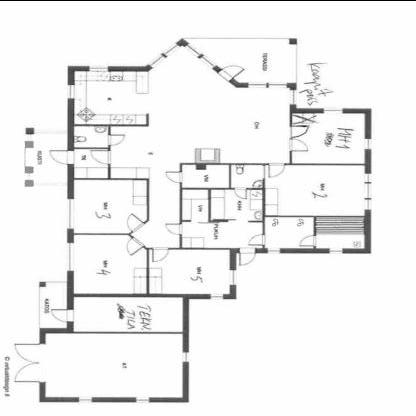door: (11, 341, 47, 388), (287, 121, 310, 155), (214, 61, 246, 81), (124, 233, 149, 257), (231, 245, 257, 268), (146, 245, 172, 265), (122, 212, 148, 232), (265, 158, 289, 178), (87, 147, 113, 165), (49, 147, 77, 163), (50, 306, 76, 322), (245, 231, 269, 248), (296, 231, 319, 247), (163, 168, 185, 184), (164, 221, 184, 237), (229, 185, 249, 201), (108, 132, 127, 147)
window: (63, 196, 77, 228), (64, 239, 76, 271), (62, 80, 79, 101), (319, 104, 345, 114), (84, 63, 110, 73), (132, 393, 152, 405), (361, 134, 375, 150), (179, 349, 191, 365), (206, 291, 225, 301), (328, 244, 346, 254), (76, 395, 96, 403), (266, 245, 282, 255)
